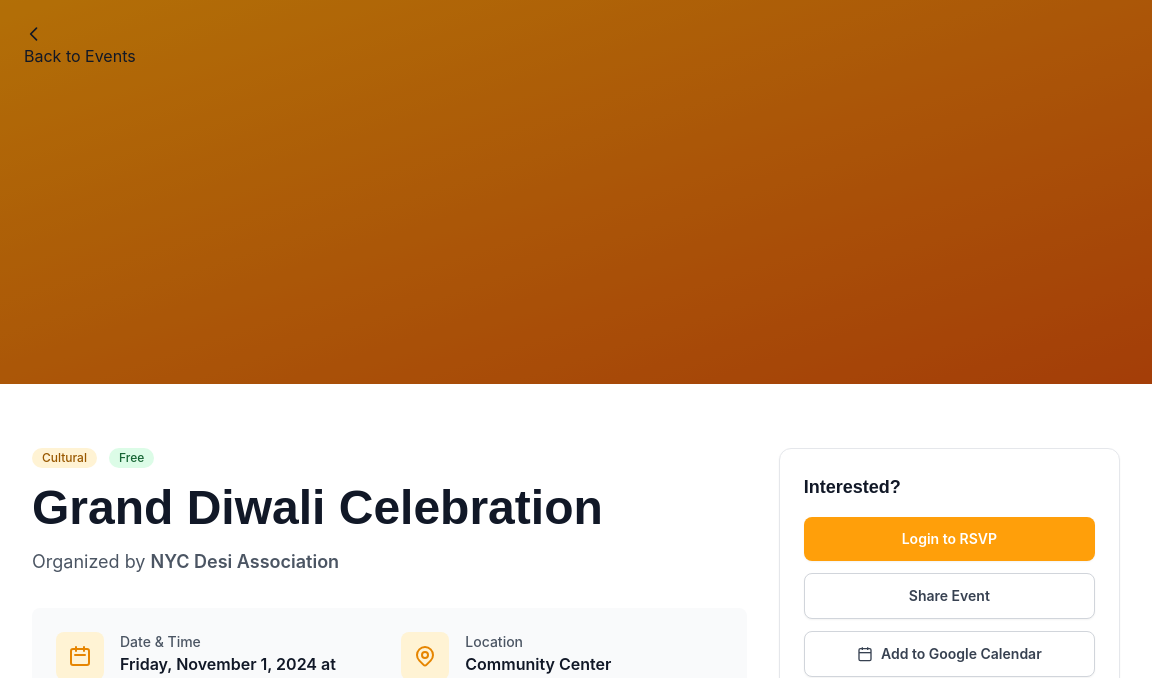
it: EventDetailPage › uses clipboard fallback when navigator.share is unavailable
The image size is (1152, 678).
What coordinates should you click on to do the following:
click the button "Share Event"
I would click on:
 (949, 596)
Its box is [804,573,1095,619].
(page scrolled)
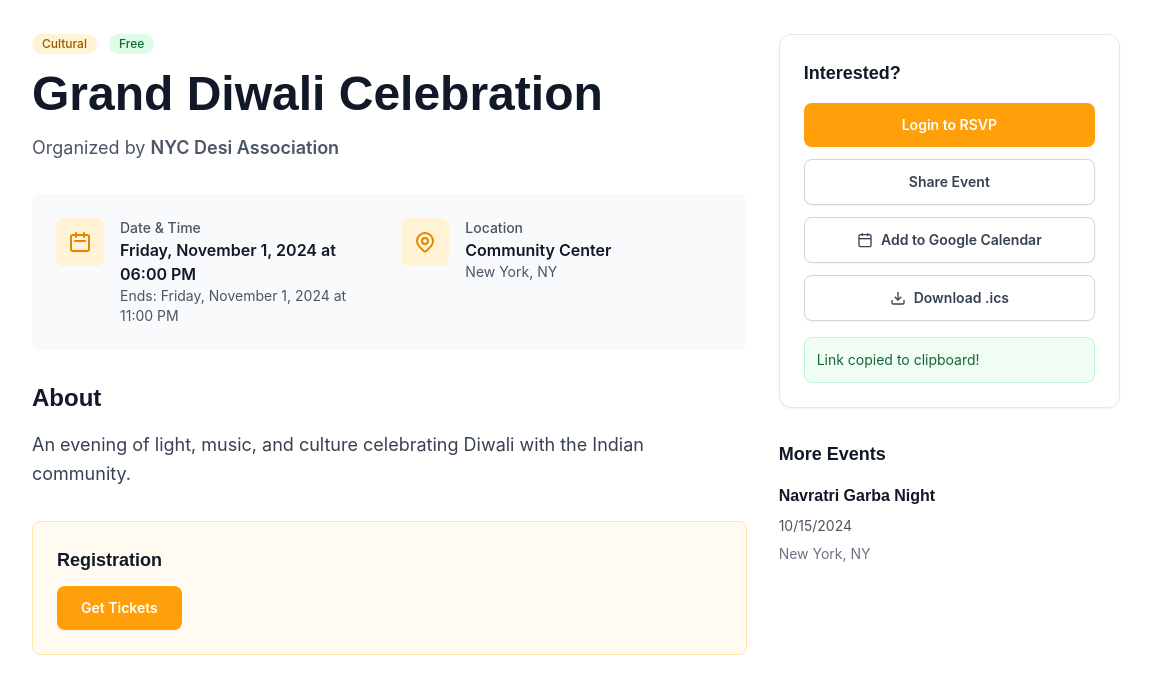
Check: the text "Link copied to clipboard!" is shown, box [817,351,980,368]
